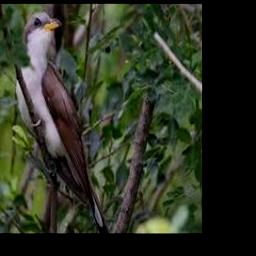Cuckoo: (17, 11, 106, 232)
